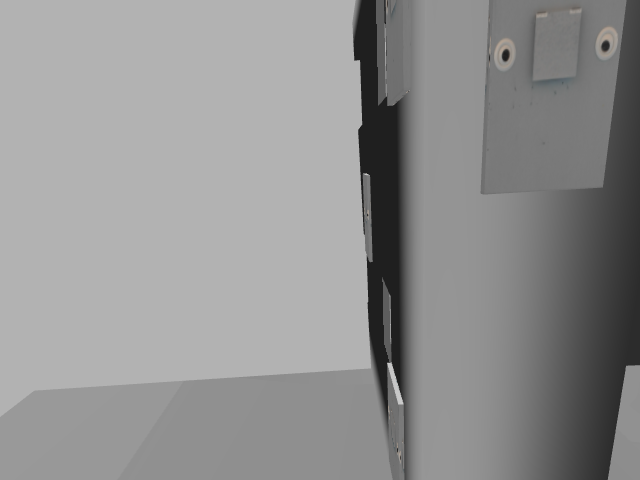facade: (492, 6, 620, 83)
